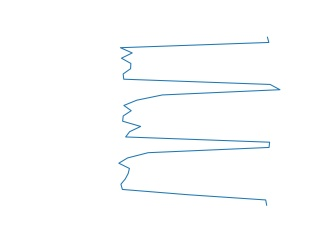majorRiverChannelBar: (114, 34, 284, 210)
